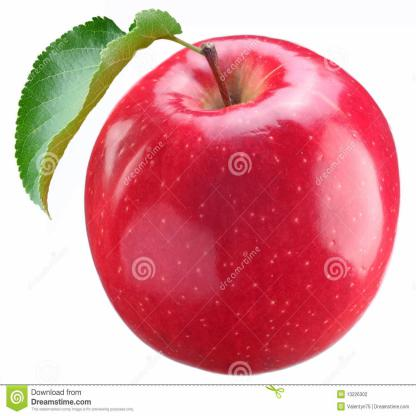apple leaf: (14, 3, 193, 223)
